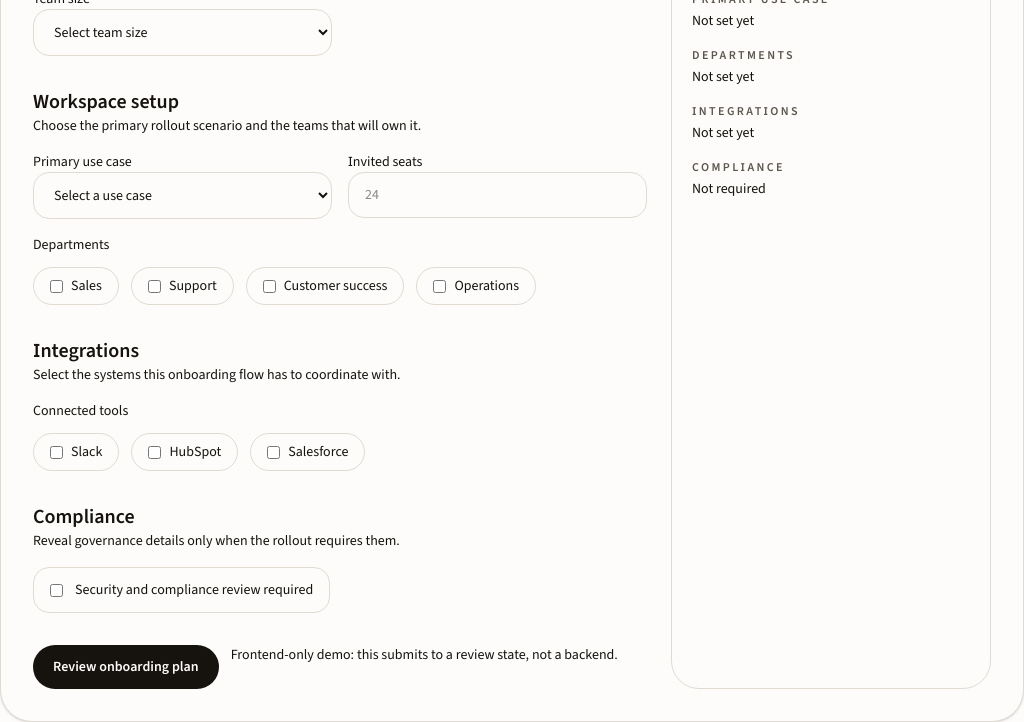
Test: WorkspaceOnboardingDemo › shows validation errors on invalid submit
(page scrolled)
Click the button "Review onboarding plan". click: (126, 667)
box: [33,645,219,689]
(page scrolled)
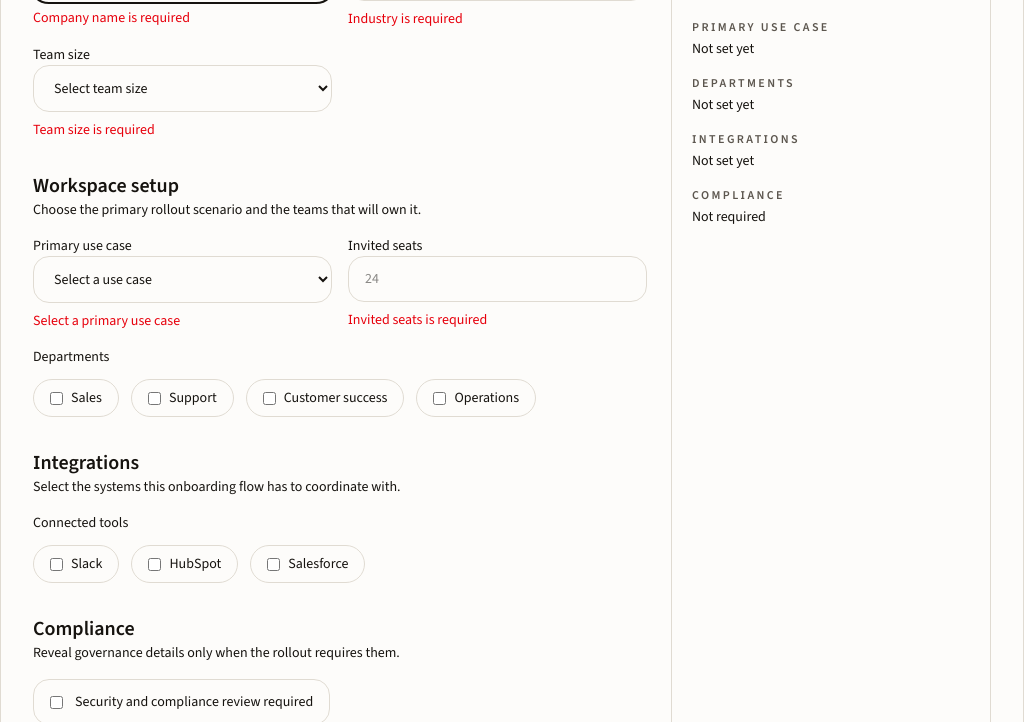
expect the text "Company name is required" is shown: met, box [33,8,190,27]
expect the text "Industry is required" is shown: met, box [348,9,463,28]
expect the text "Select a primary use case" is shown: met, box [33,311,180,330]
